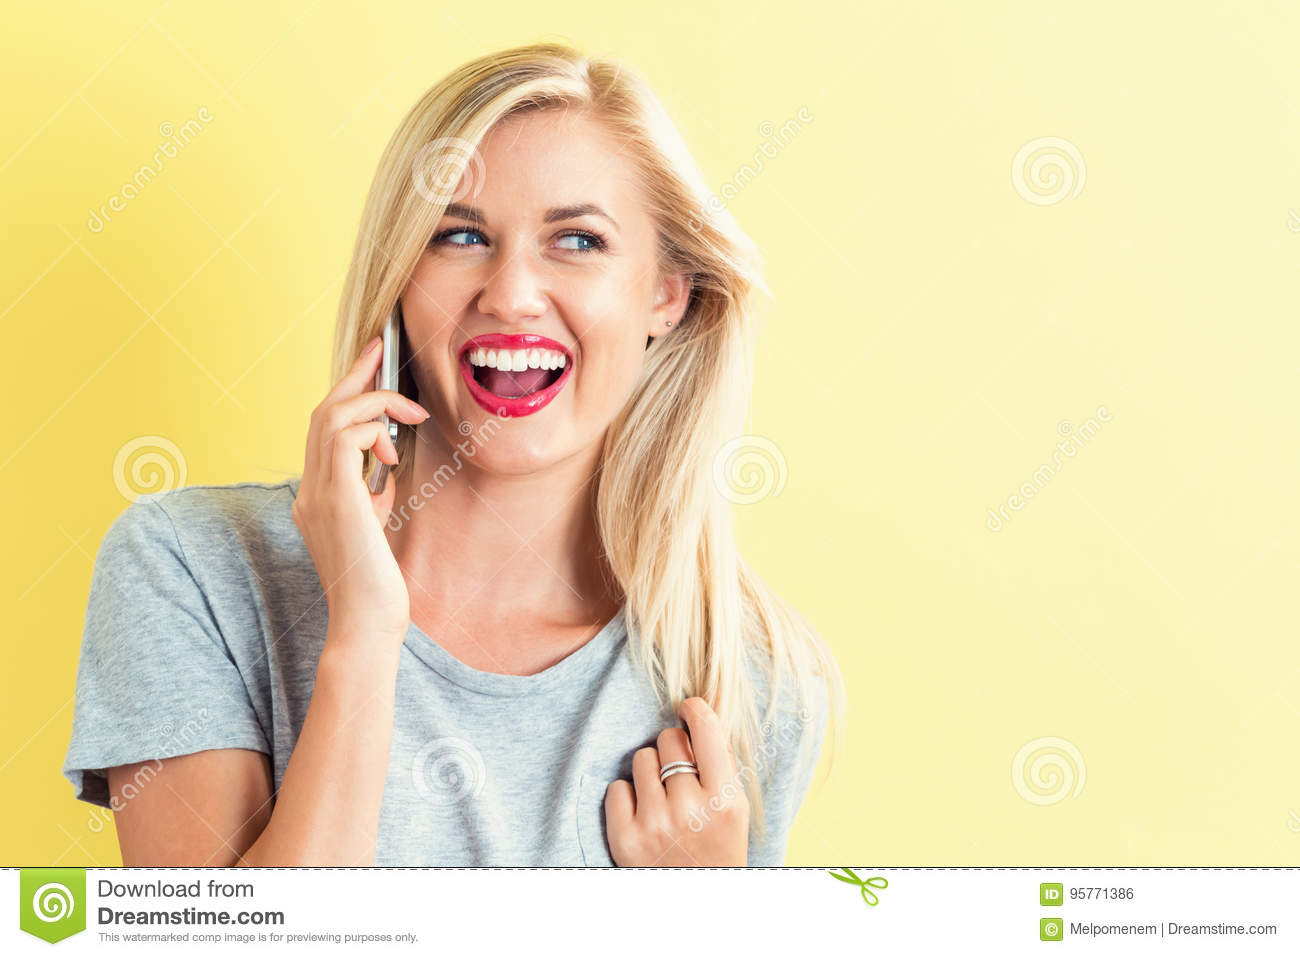phone: (361, 263, 416, 506)
talk: (291, 186, 632, 675)
